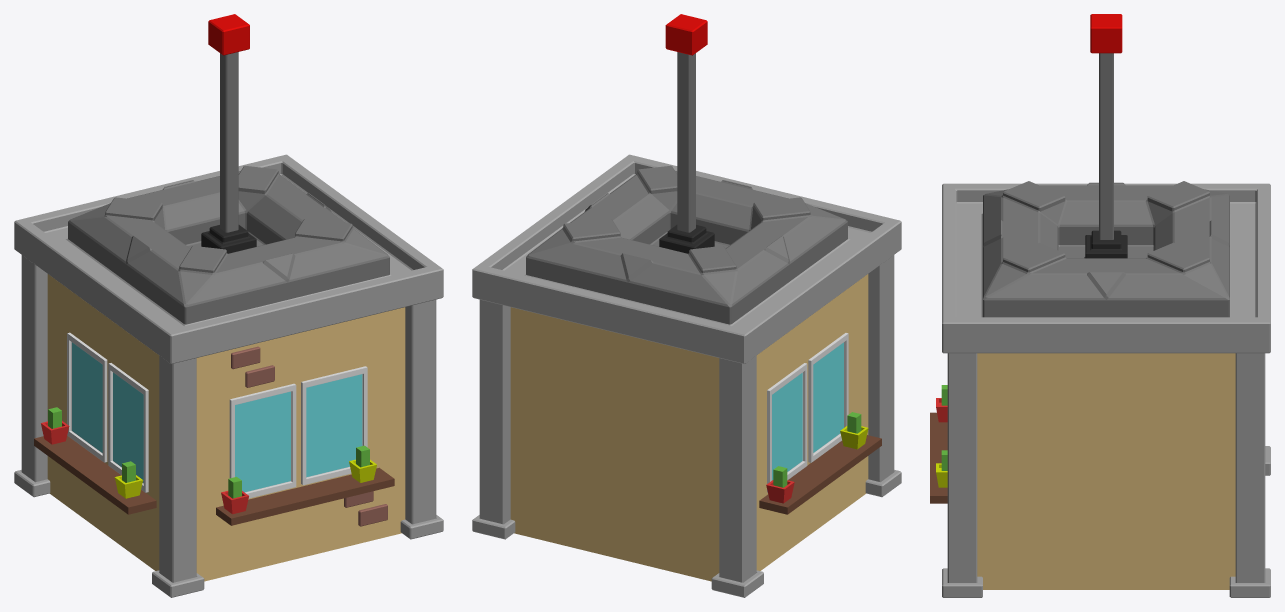
Rendered from TowerBlockTop.fbx.
3 renders of one model, left to right at view 1: azimuth 30°, elevation 25°; view 2: azimuth 150°, elevation 25°; view 3: azimuth 270°, elevation 25°, orthographic. The views are drawn at different scales.
Parts seen in each view (by area): view 1: Cube.012; view 2: Cube.012; view 3: Cube.012.
Boxes of the visible parts, bbox=[...] form: Cube.012: bbox=[14, 14, 443, 597]; Cube.012: bbox=[472, 14, 901, 597]; Cube.012: bbox=[930, 14, 1270, 597].
Size of the model in its own units: 238 by 388 by 236.
